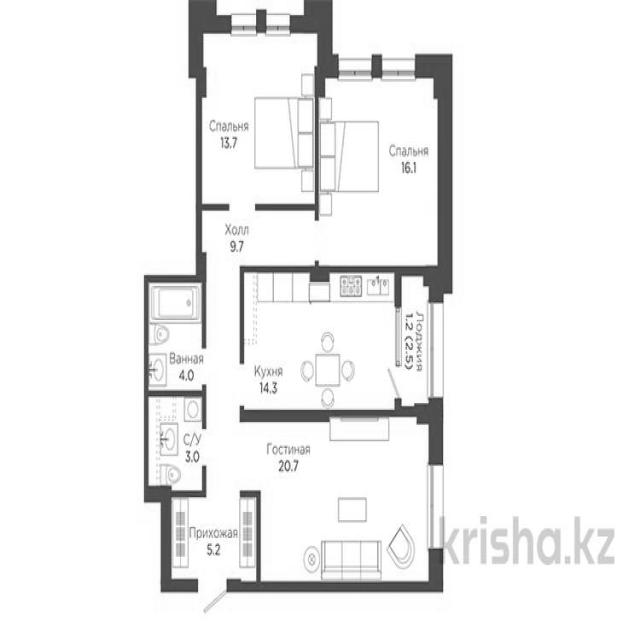balcony: (399, 275, 440, 410)
bathroom: (147, 285, 203, 391), (145, 394, 204, 492)
hallway: (170, 494, 257, 591), (206, 270, 242, 488), (202, 211, 316, 267)
kitchen: (242, 270, 398, 412)
living_room: (259, 418, 439, 588), (318, 67, 447, 268), (192, 19, 316, 212)
